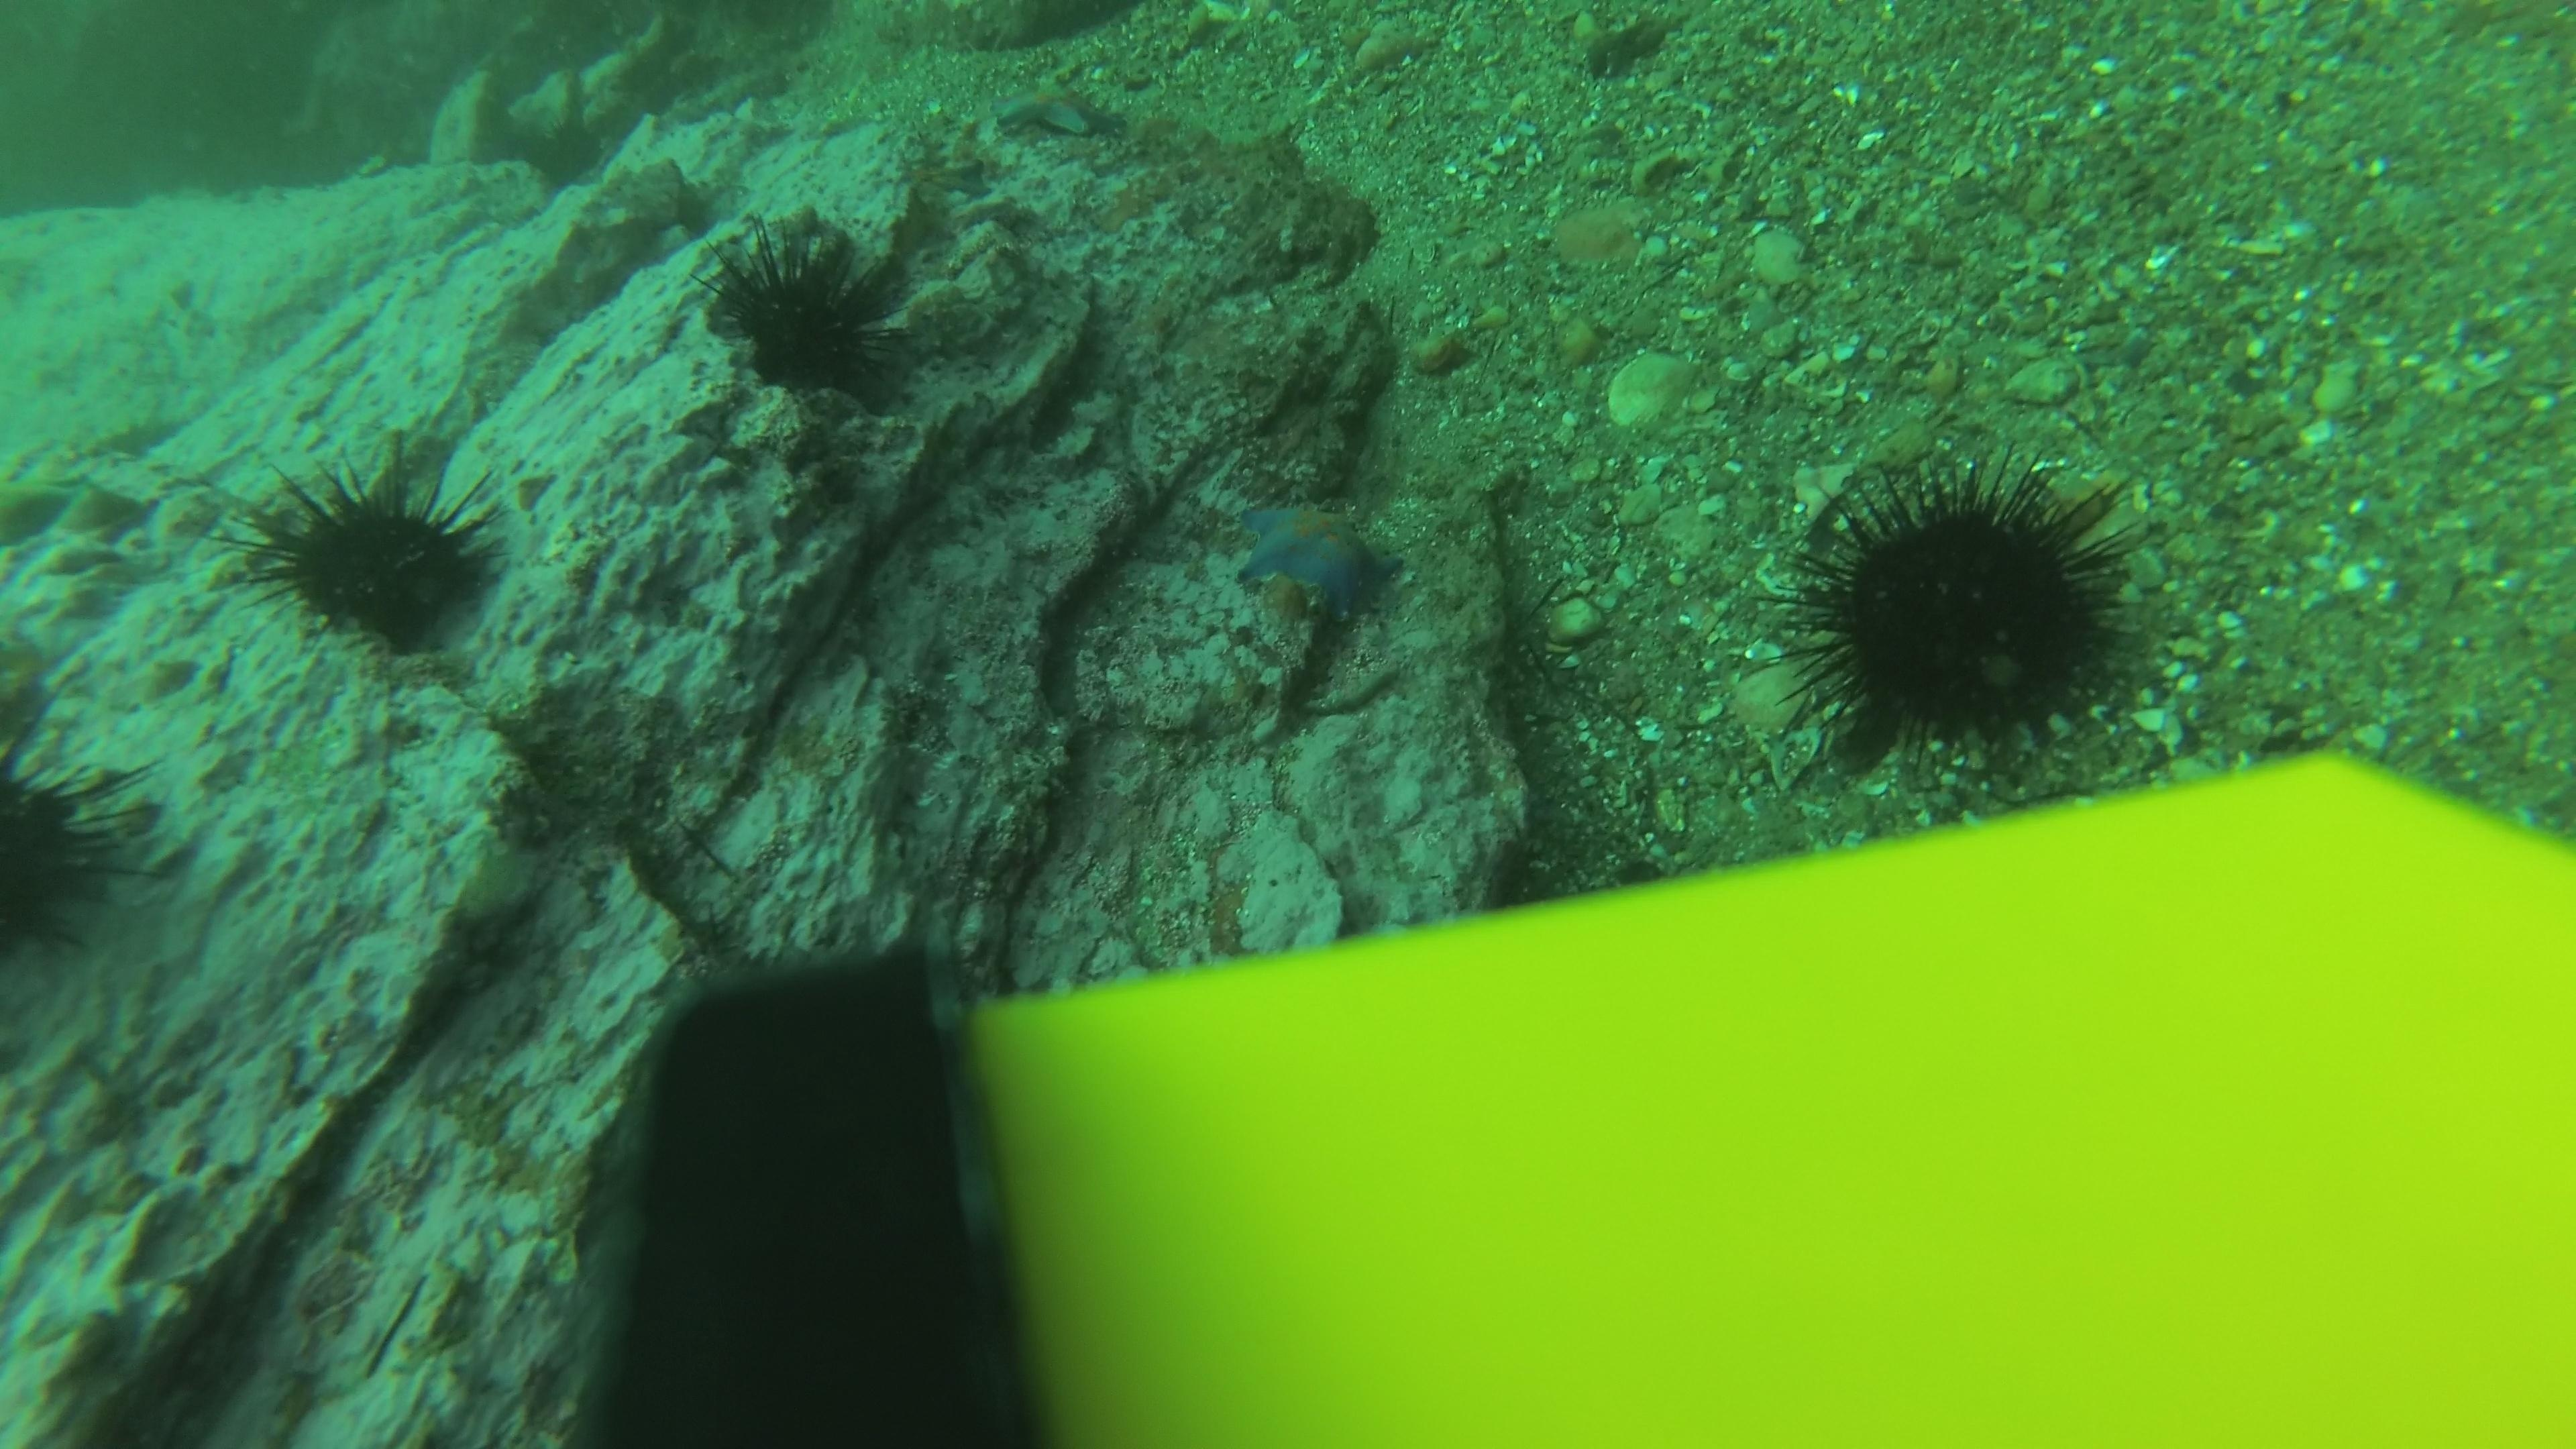echinus: (1775, 455, 2151, 763), (230, 435, 511, 656), (0, 709, 168, 973), (697, 211, 911, 402)
starfish: (1226, 490, 1407, 621), (985, 80, 1122, 142)
